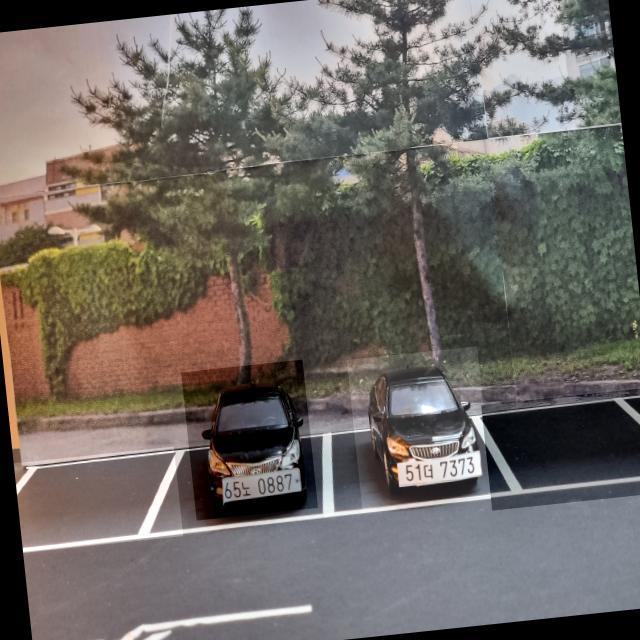empty: (481, 387, 640, 510), (13, 446, 183, 552)
occupied: (347, 346, 492, 508), (181, 359, 317, 520)
